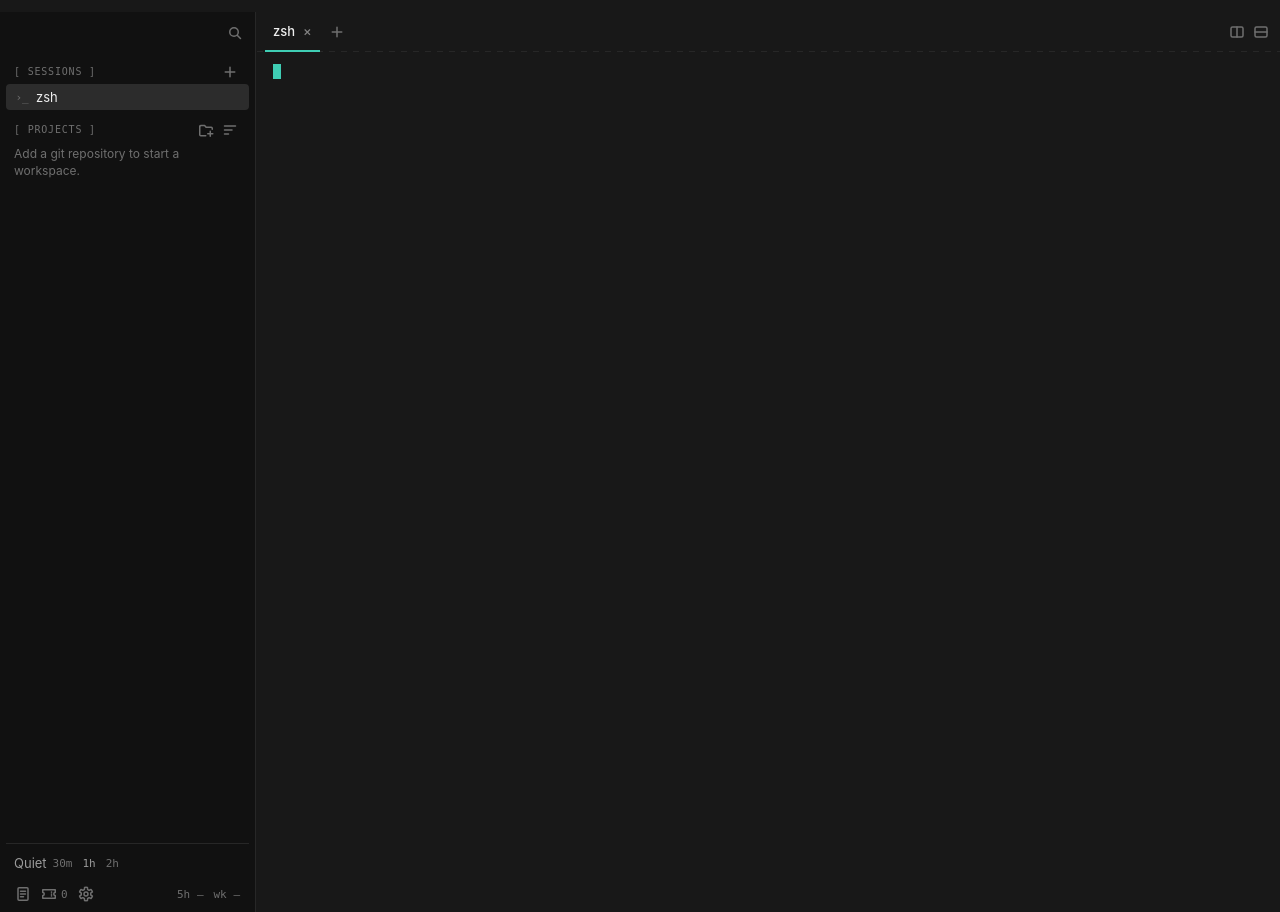
Test case: Sidebar › icon strip › opens Tickets and reads it as the open view
Step 1. Click the button named "Tickets" → (54, 894), box [37, 883, 72, 905]
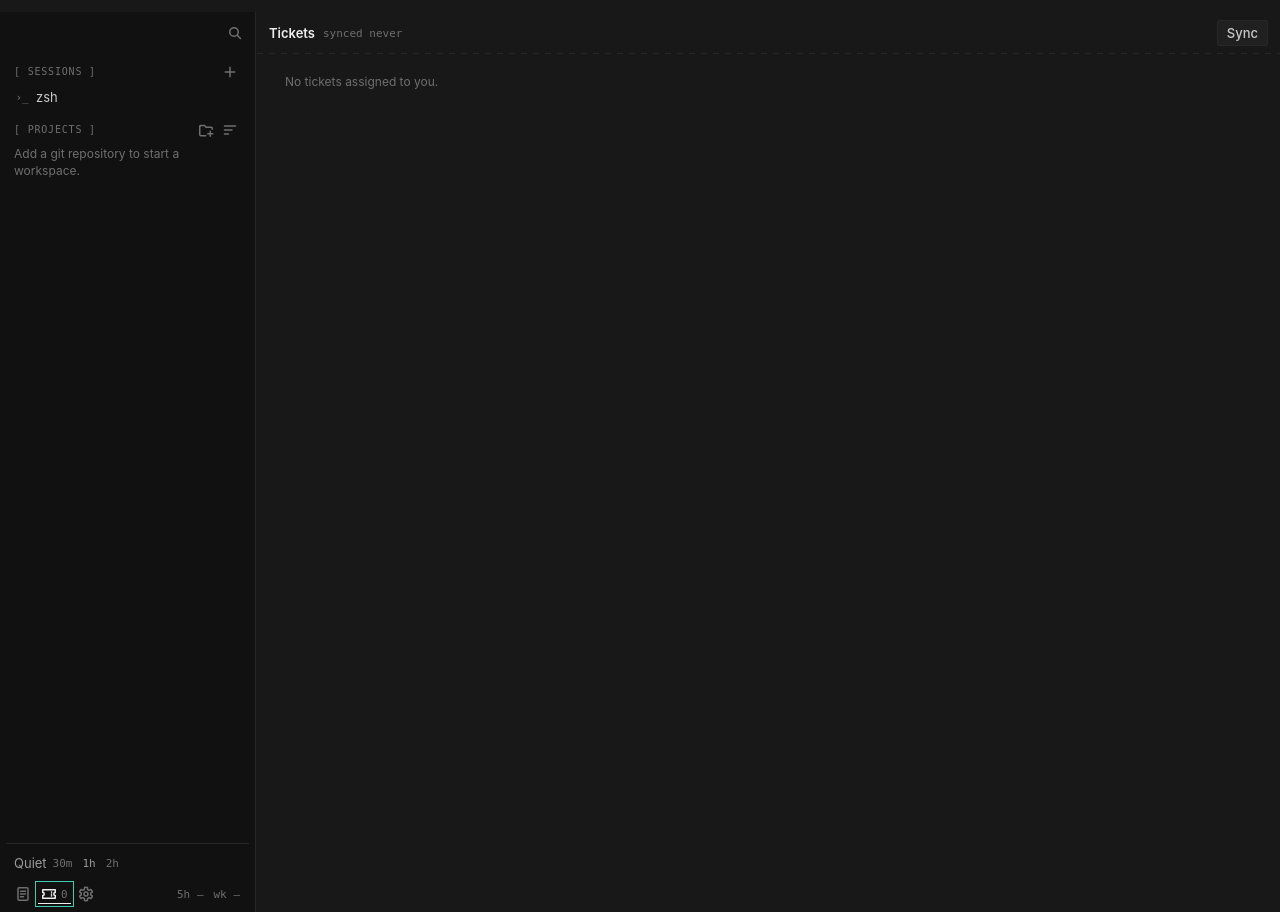
Now the element with test id "tickets-view" is shown, box [269, 20, 1268, 89]
